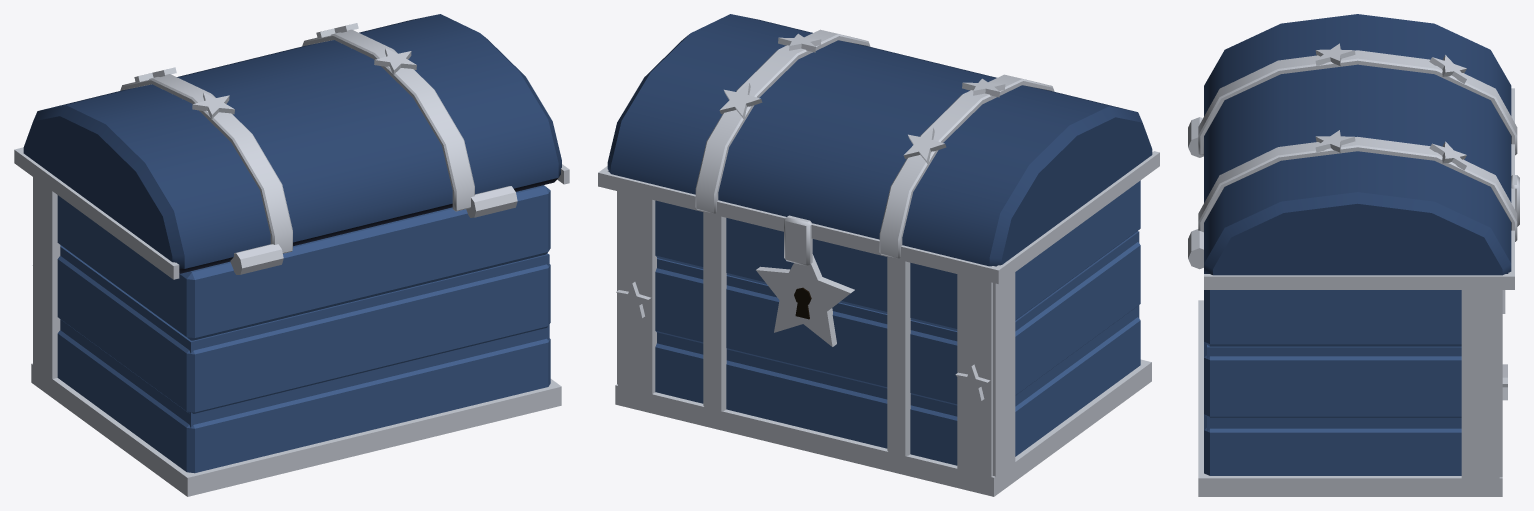
The model's file is coffre_argent.fbx.
The picture shows the model from 3 angles, left to right: view 1: azimuth 30°, elevation 25°; view 2: azimuth 150°, elevation 25°; view 3: azimuth 270°, elevation 25°; orthographic projection. The views are drawn at different scales.
Visible parts, largest first — view 1: Corps, Couvercle, Ferrures; view 2: Couvercle, Corps, Ferrures; view 3: Couvercle, Corps, Ferrures.
Boxes of the visible parts, left/top/right/bottom form: Corps: left=57, top=185, right=550, bottom=473; Couvercle: left=14, top=14, right=569, bottom=279; Ferrures: left=31, top=177, right=561, bottom=496; Couvercle: left=598, top=14, right=1159, bottom=284; Corps: left=655, top=180, right=1140, bottom=465; Ferrures: left=615, top=191, right=1151, bottom=496; Couvercle: left=1198, top=14, right=1519, bottom=289; Corps: left=1204, top=290, right=1461, bottom=475; Ferrures: left=1188, top=117, right=1507, bottom=496.
Bounding box in the file's own units: 1.52 × 1.19 × 1.13.
